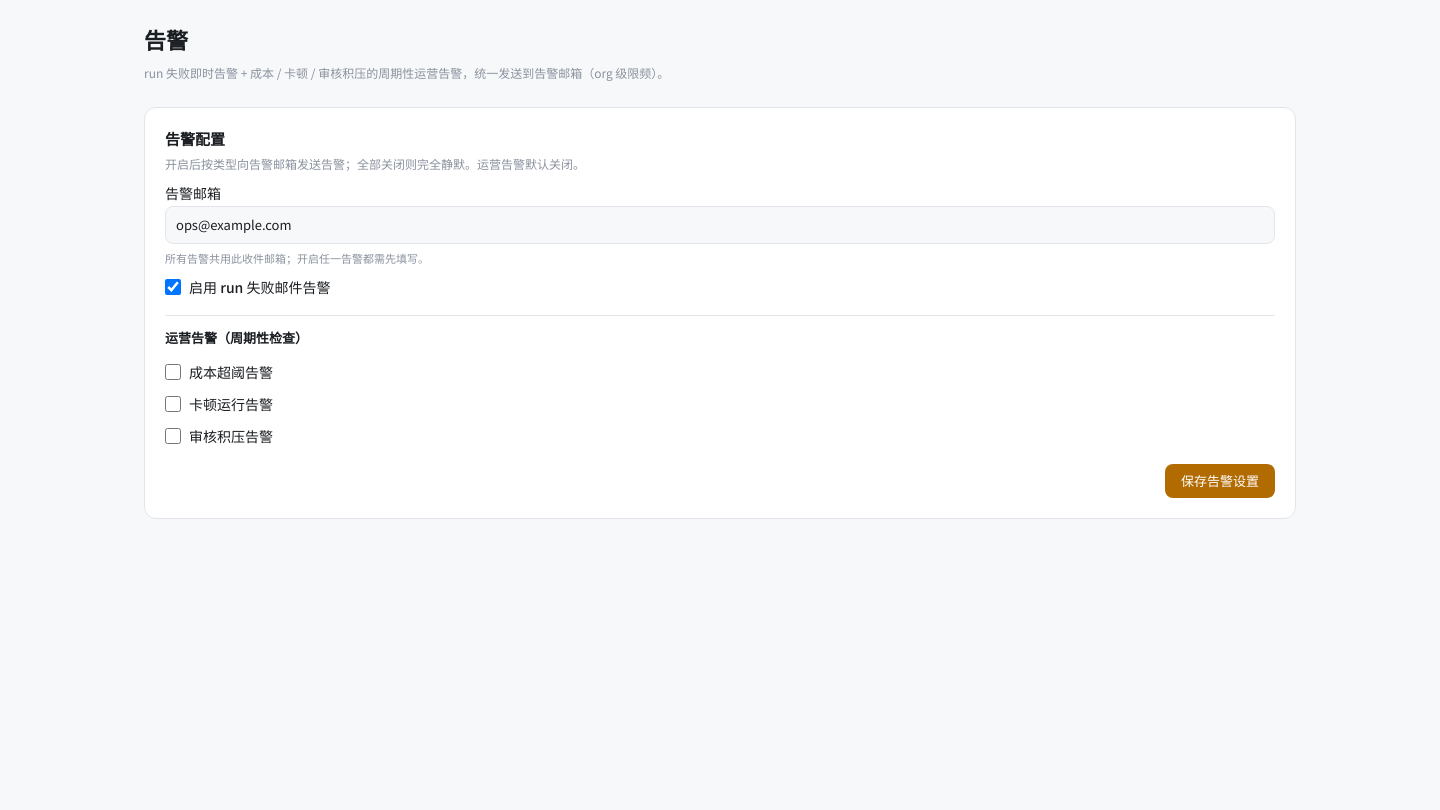
AlertSettingsView › blocks enabling backlog alert with empty threshold
Click the checkbox labelled "审核积压告警" at x=173, y=436, box top-left (165, 428), bottom-right (181, 444)
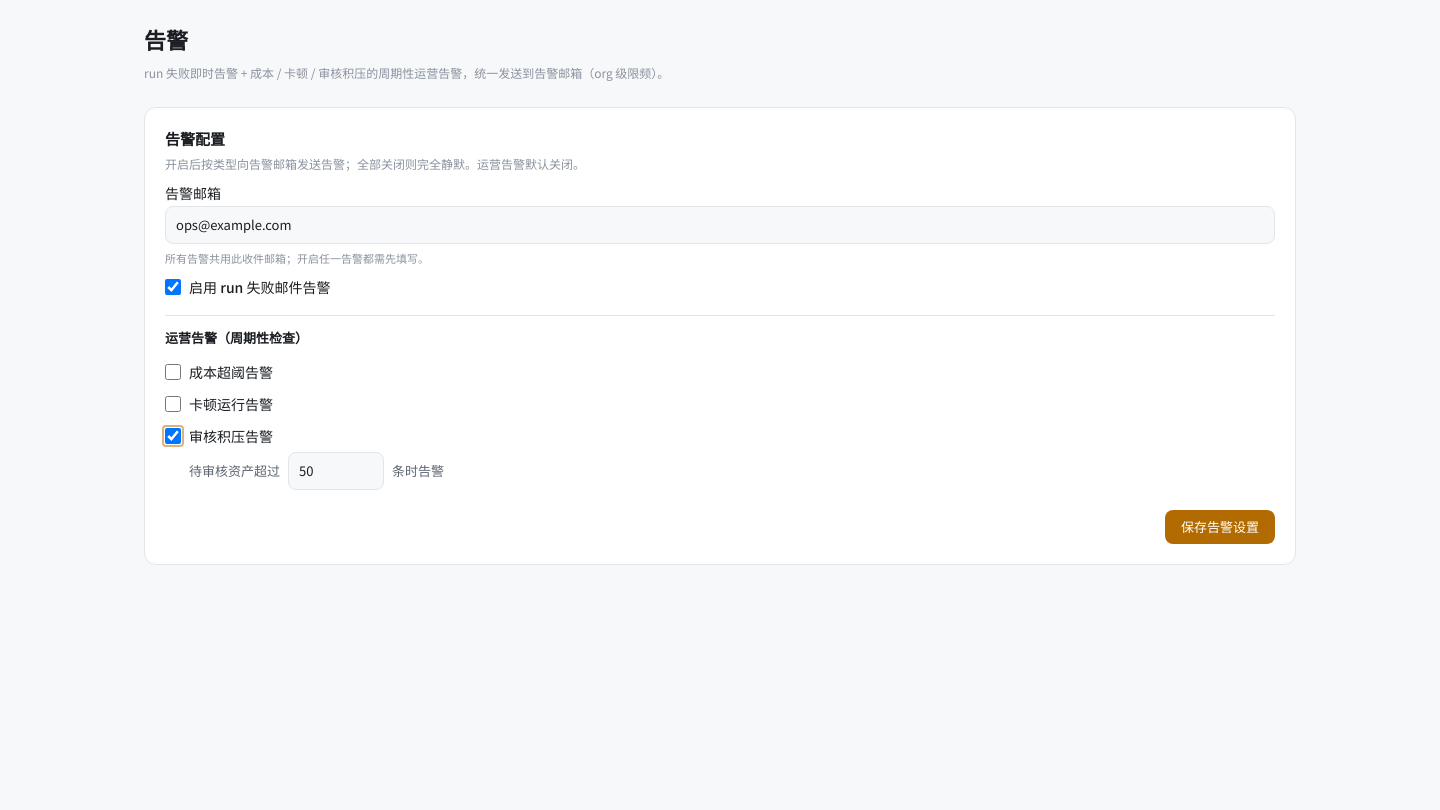
留空阈值（原生 min 校验只在有值时触发，空值走我们的镜像校验 → toast）。
Clear the number field named "审核积压阈值（条）" at x=336, y=471, box top-left (288, 452), bottom-right (384, 490)
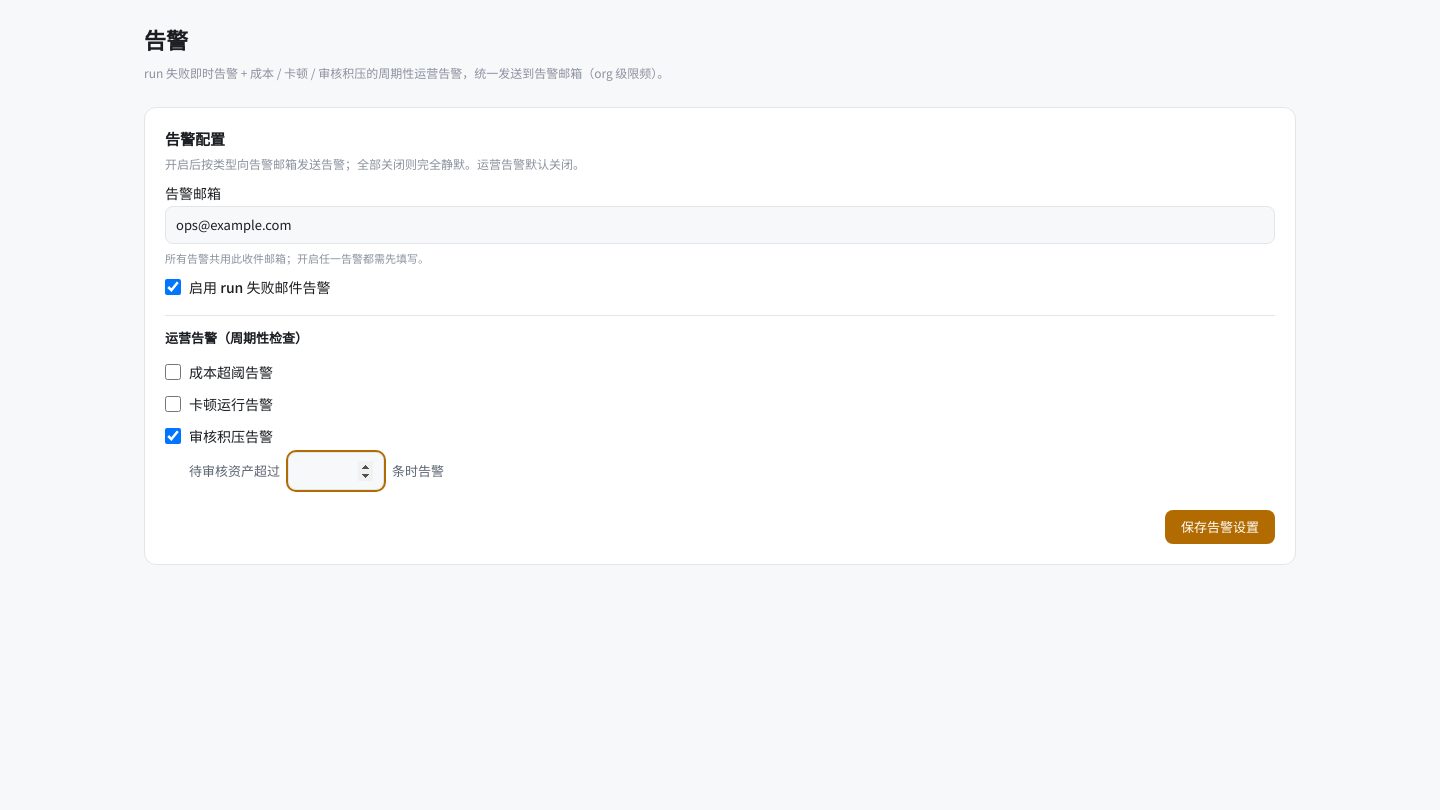
Click the button "保存告警设置" at x=1220, y=527, box top-left (1165, 510), bottom-right (1275, 544)
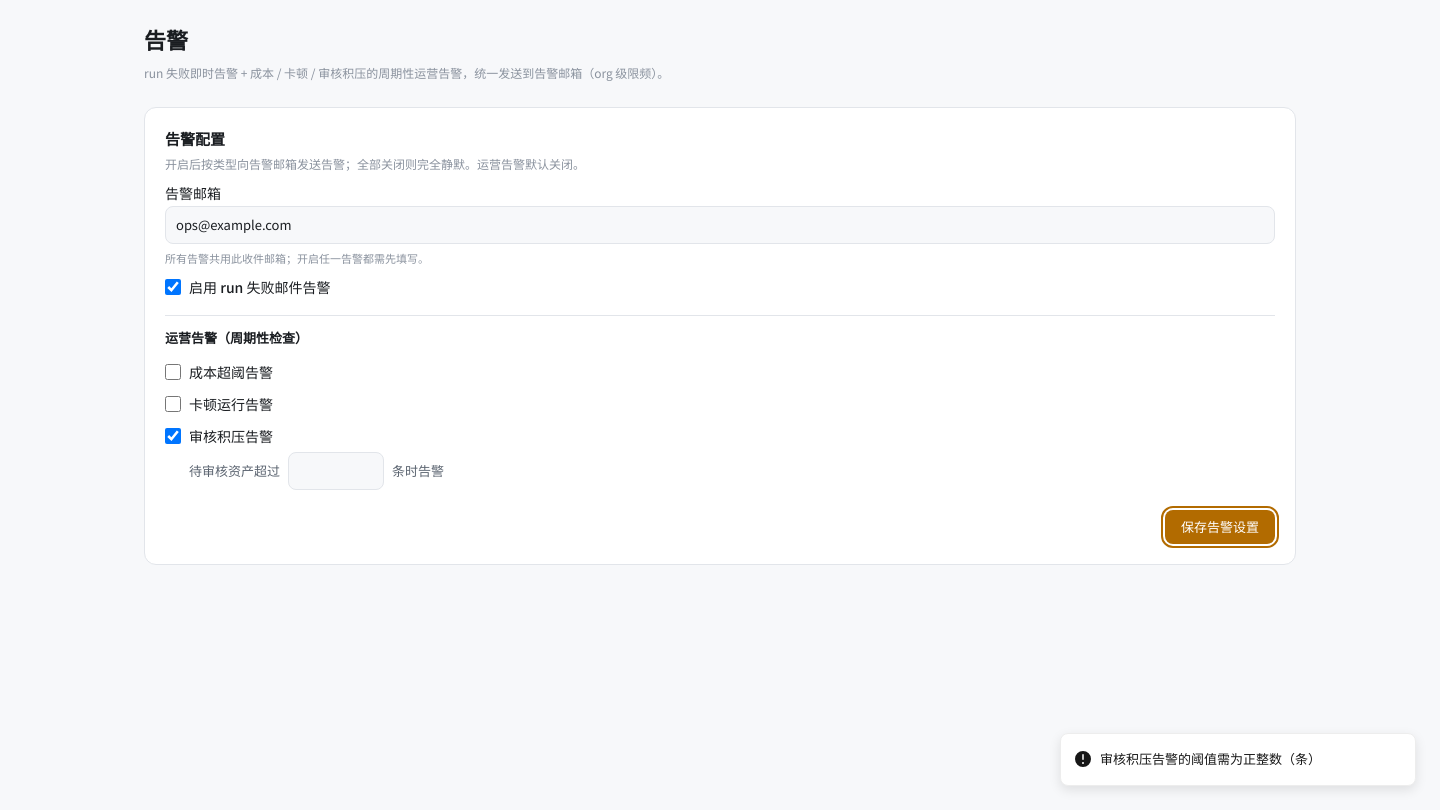
Expected: the text "审核积压告警的阈值需为正整数（条）" is shown, top-left (1100, 750), bottom-right (1321, 769)
